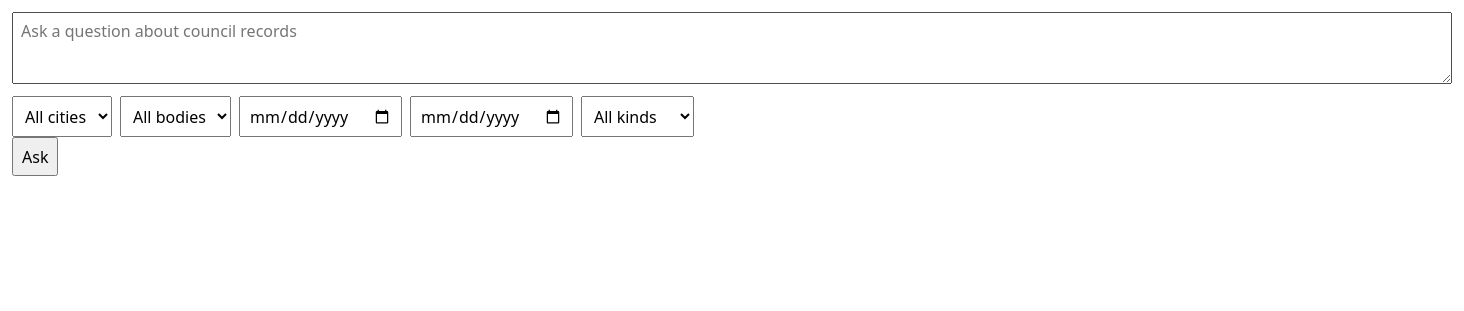
Scenario: renders sentences with numbered citation links
Type "How did the council vote?" into the text box with test id "ask-input" at (732, 48), box [12, 12, 1452, 84]
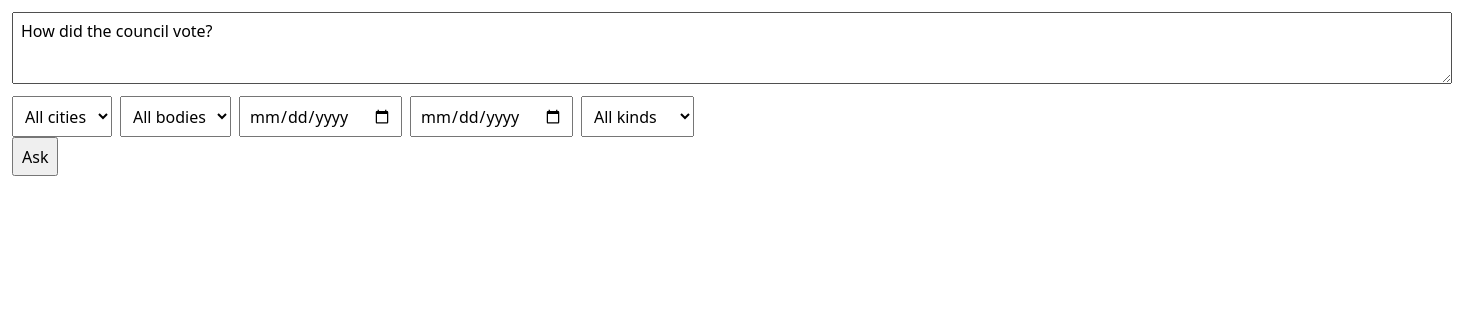
Click the button with test id "ask-submit" at (35, 157), box [12, 137, 58, 176]
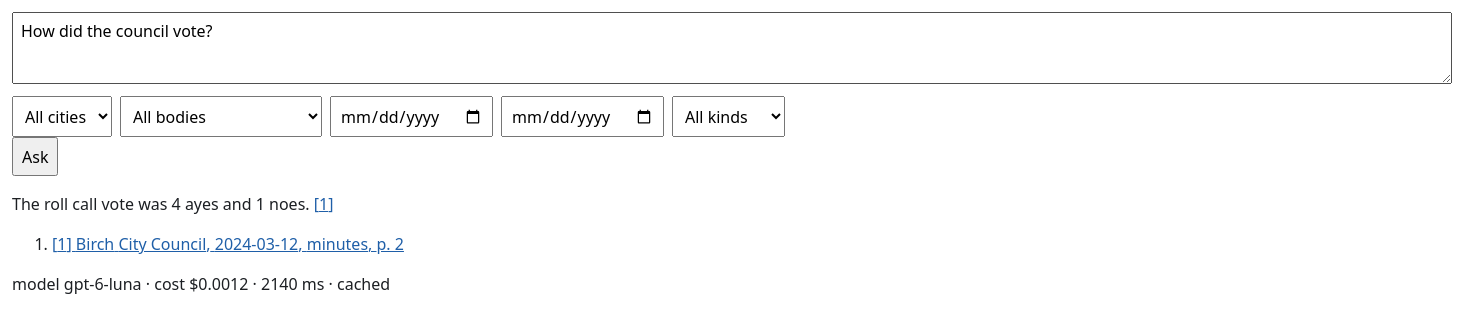
Check: the text with test id "sentence" reads "The roll call vote was 4 ayes and 1 noes.", box [12, 193, 310, 215]
